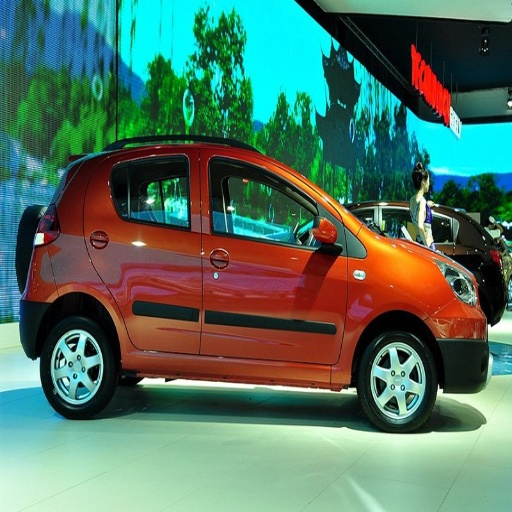back_right_door: (88, 151, 208, 352)
front_right_door: (200, 156, 346, 370)
